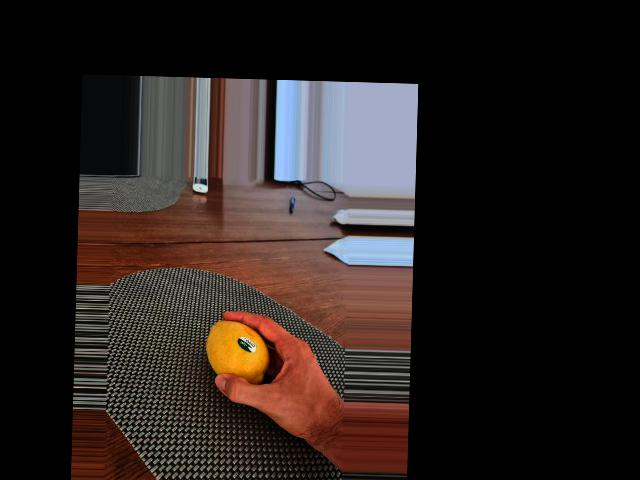lemon: (206, 316, 271, 391)
